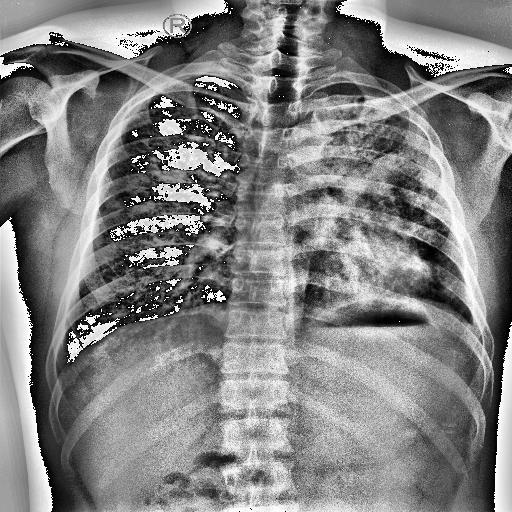11- Pleural thickening: (298, 70, 422, 118), (300, 80, 416, 112)
13- Pulmonary fibrosis: (295, 79, 473, 307)
4- Consolidation: (304, 100, 460, 288), (323, 110, 462, 298)
6- Infiltration: (295, 79, 473, 307), (106, 138, 181, 214), (104, 153, 160, 220)
7- Lung Opacity: (295, 79, 473, 307), (304, 100, 460, 288), (323, 110, 462, 298)
